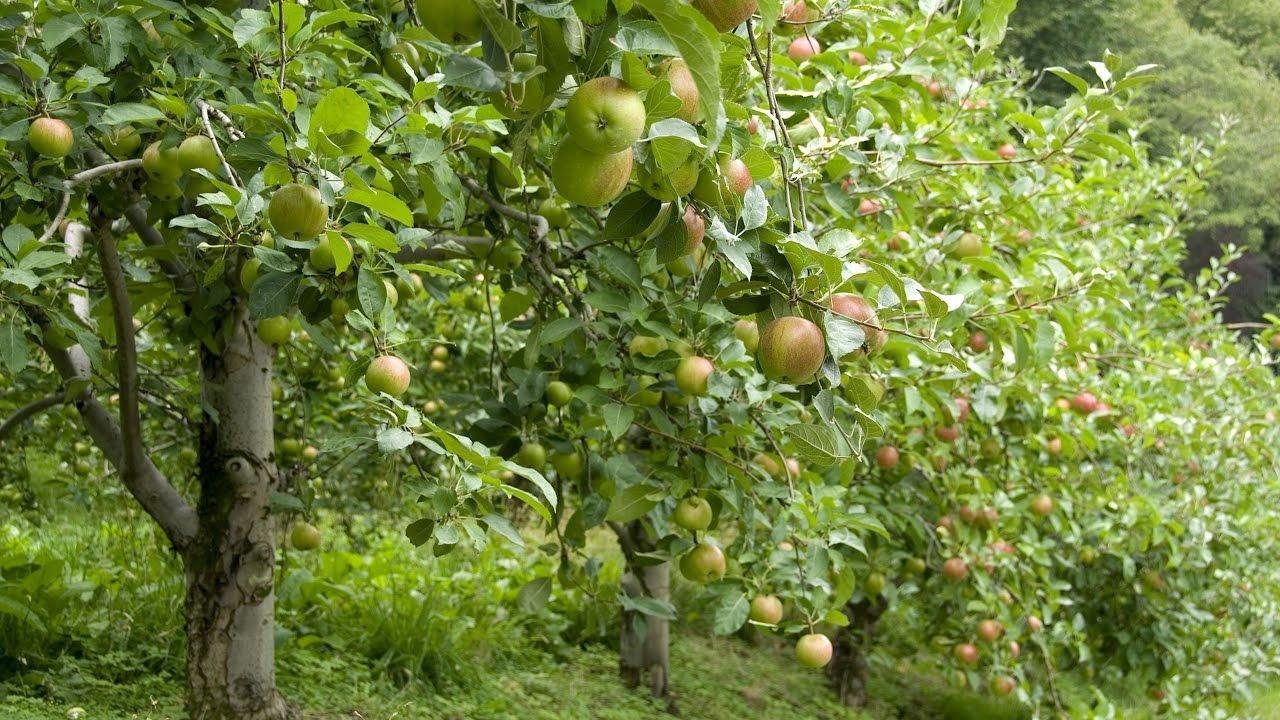apple: (549, 78, 646, 209), (564, 77, 647, 155), (758, 315, 828, 384), (268, 183, 329, 242), (636, 160, 698, 201), (27, 118, 75, 160), (679, 543, 727, 584), (367, 356, 411, 398), (141, 140, 182, 184), (310, 233, 349, 276), (674, 357, 715, 396), (178, 136, 221, 173), (796, 635, 834, 670), (101, 126, 139, 160), (258, 312, 292, 346), (732, 319, 761, 356), (751, 596, 784, 627)
